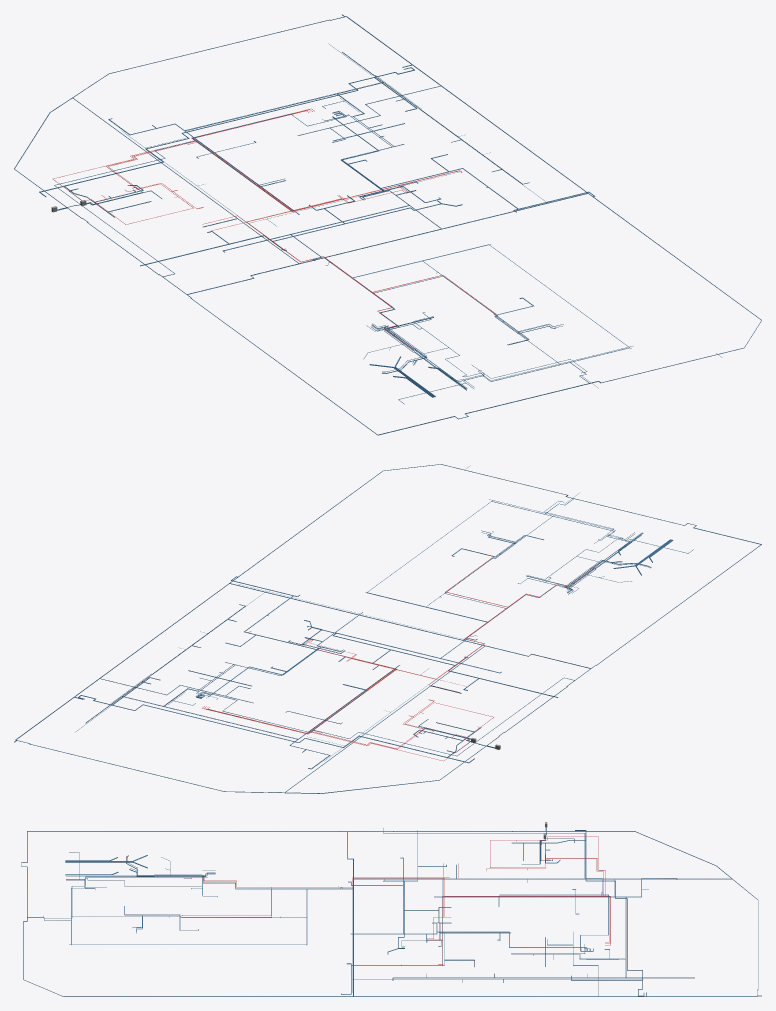
The picture shows the model from 3 angles, top to bottom: view 1: azimuth 30°, elevation 25°; view 2: azimuth 150°, elevation 25°; view 3: azimuth 270°, elevation 25°; orthographic projection. The views are drawn at different scales.
Visible parts, largest first — view 1: 生活水管, 消防水管, 生活排水管, 循环给水管, 循环回水管, 生产排水管, 生活给水管, 除盐水补水管; view 2: 生活水管, 消防水管, 生活排水管, 循环给水管, 循环回水管, 生产排水管, 生活给水管, 除盐水补水管; view 3: 生活水管, 消防水管, 循环给水管, 循环回水管, 生活给水管, 生活排水管, 生产排水管, 除盐水补水管, 生产加压水管, 生产新水管.
Part boxes in pixels (box(x1,y1,x2,y2)): 生活水管: box(14, 14, 761, 435); 消防水管: box(53, 108, 496, 350); 生活排水管: box(39, 67, 462, 266); 循环给水管: box(109, 52, 563, 373); 循环回水管: box(108, 52, 555, 373); 生产排水管: box(223, 111, 595, 260); 生活给水管: box(325, 244, 631, 404); 除盐水补水管: box(54, 111, 346, 277); 生活水管: box(14, 464, 761, 793); 消防水管: box(202, 557, 594, 761); 生活排水管: box(78, 620, 558, 763); 循环给水管: box(85, 530, 650, 768); 循环回水管: box(86, 531, 651, 769); 生产排水管: box(188, 576, 501, 698); 生活给水管: box(366, 498, 693, 639); 除盐水补水管: box(195, 677, 574, 756); 生活水管: box(21, 827, 761, 996); 消防水管: box(154, 836, 610, 964); 循环给水管: box(124, 857, 694, 980); 循环回水管: box(124, 856, 694, 980); 生活给水管: box(27, 852, 352, 944); 生活排水管: box(383, 830, 644, 996); 生产排水管: box(341, 857, 593, 994); 除盐水补水管: box(383, 828, 608, 951); 生产加压水管: box(352, 879, 643, 992); 生产新水管: box(66, 876, 352, 945).
Size of the model in its own units: 319 by 3.59 by 588.
21 materials, 21 textured.
